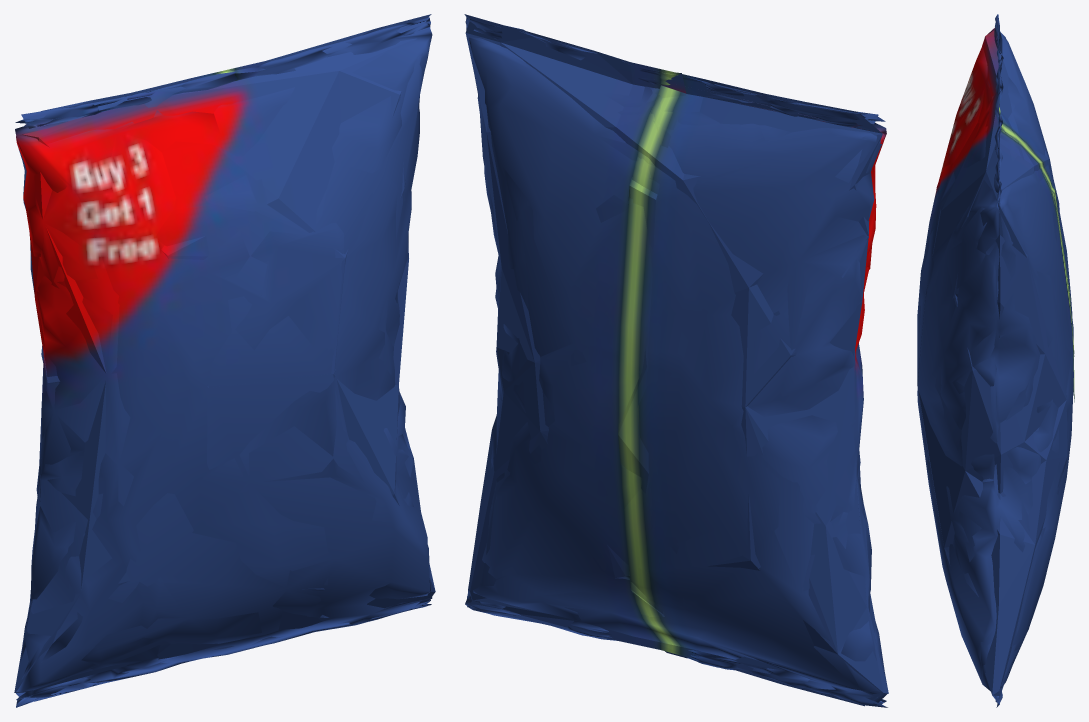
File: imp-pretzels.glb
3 views of the same model, side by side, from view 1: azimuth 30°, elevation 25°; view 2: azimuth 150°, elevation 25°; view 3: azimuth 270°, elevation 25° (orthographic). The views are drawn at different scales.
Visible parts, largest first — view 1: Kerbside_metres_ground_pivot (×3); view 2: Kerbside_metres_ground_pivot (×3); view 3: Kerbside_metres_ground_pivot (×3).
Boxes of the visible parts, x1=… form: Kerbside_metres_ground_pivot (×3): x1=14, y1=14, x2=435, y2=707; Kerbside_metres_ground_pivot (×3): x1=464, y1=14, x2=888, y2=707; Kerbside_metres_ground_pivot (×3): x1=917, y1=14, x2=1074, y2=707.
Size of the model in its own units: 0.1859 by 0.25 by 0.0687.
1 material, 1 textured.
